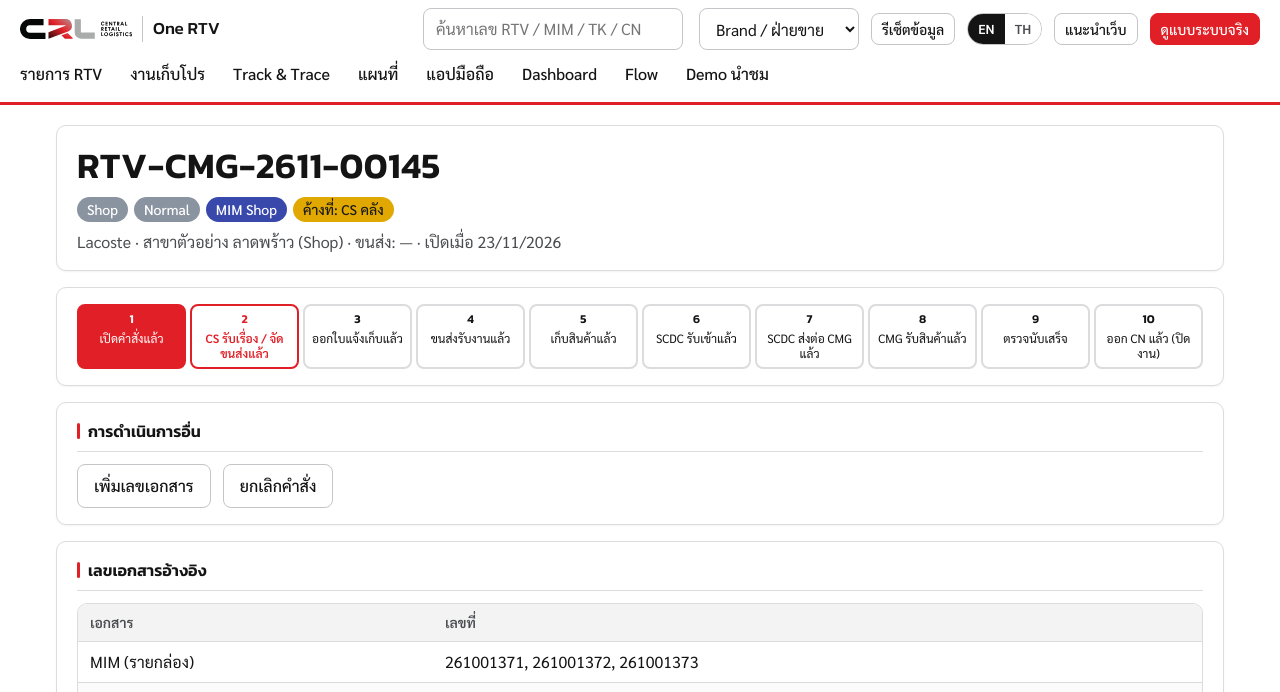
Scenario: brand can add a document number
The width and height of the screenshot is (1280, 692).
Click the button "เพิ่มเลขเอกสาร". click: (144, 486)
box: [77,464,211,508]
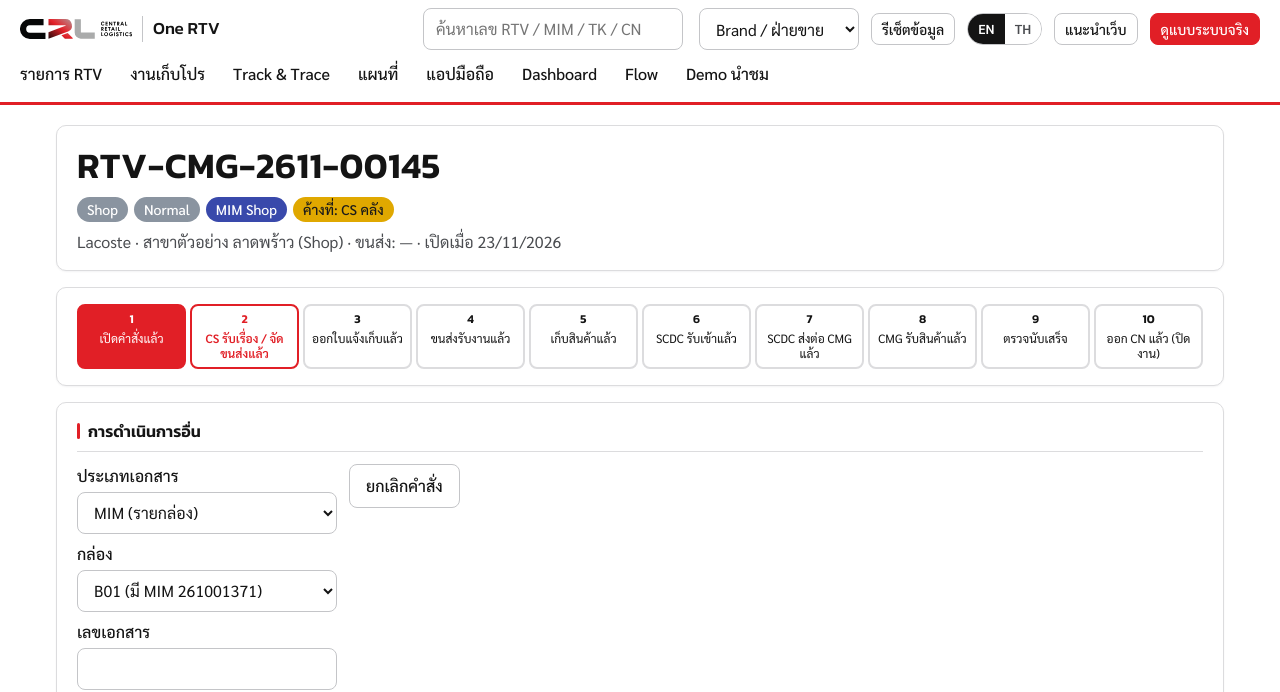
Select "SD10 / RTV Form" in the dropdown labelled "ประเภทเอกสาร". click: (207, 513)
box: [77,492,337,534]
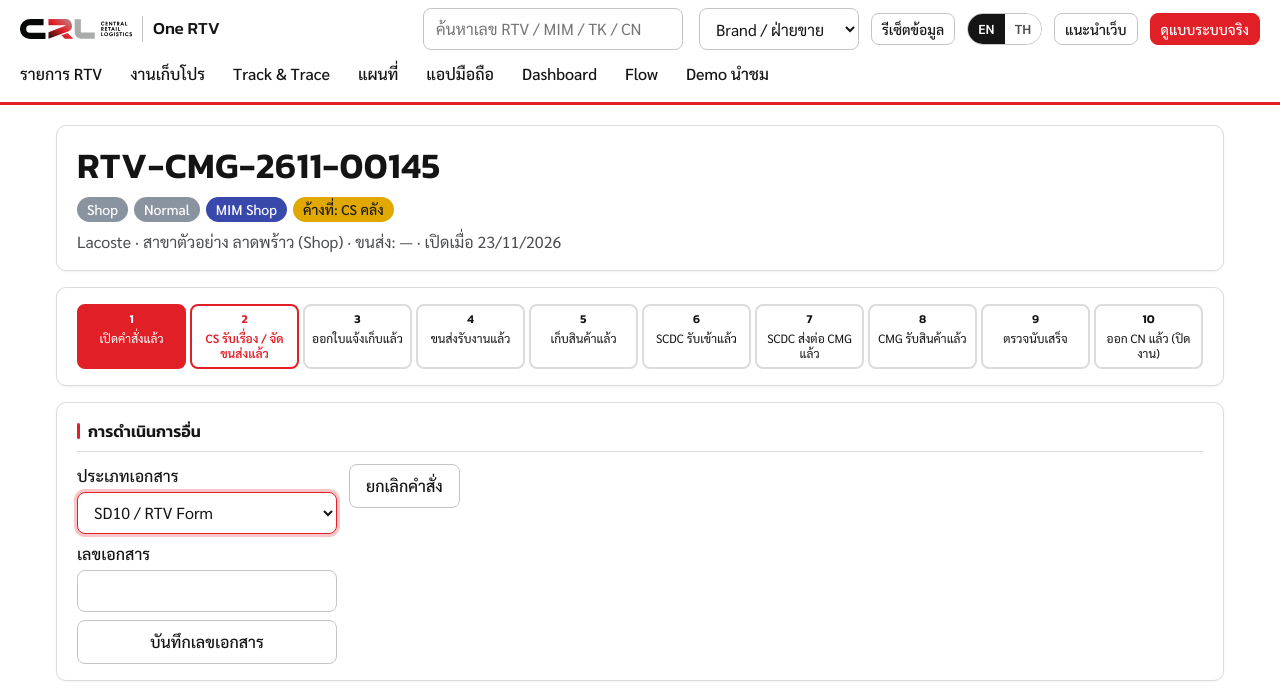
Type "SD10-TEST-1" into the field labelled "เลขเอกสาร". click: (207, 591)
box: [77,570,337,612]
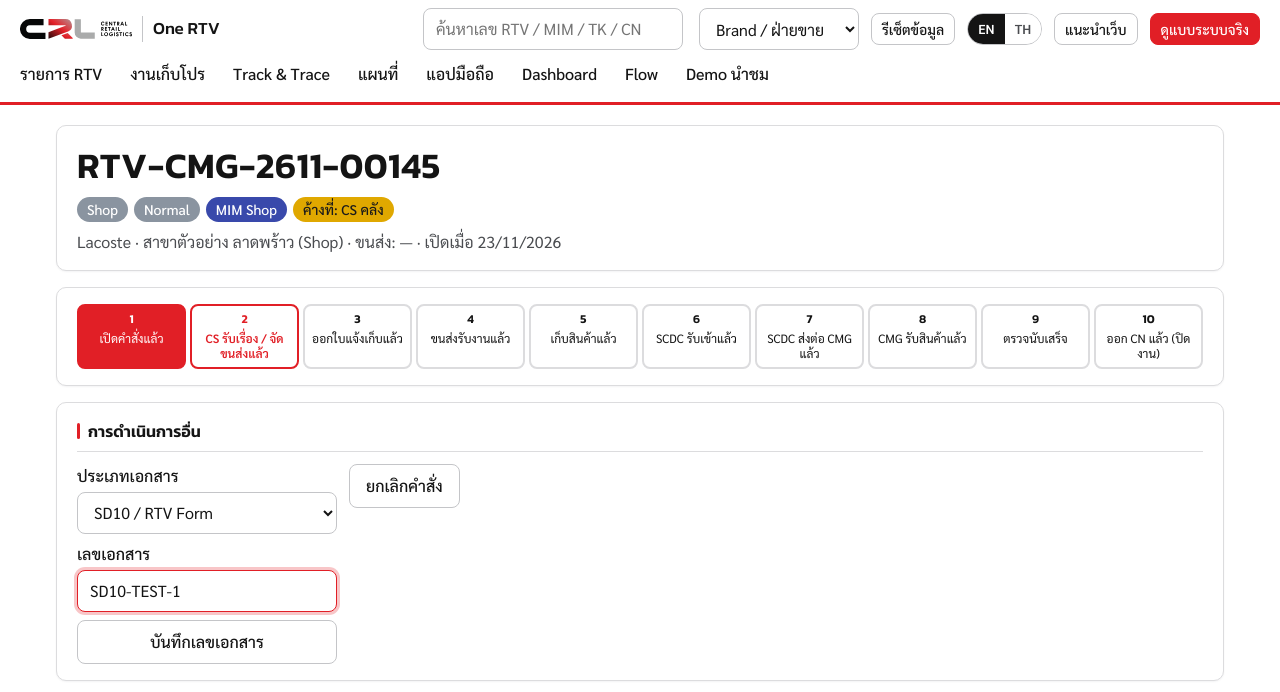
Click the button "บันทึกเลขเอกสาร". click: (207, 642)
box: [77,620,337,664]
(page scrolled)
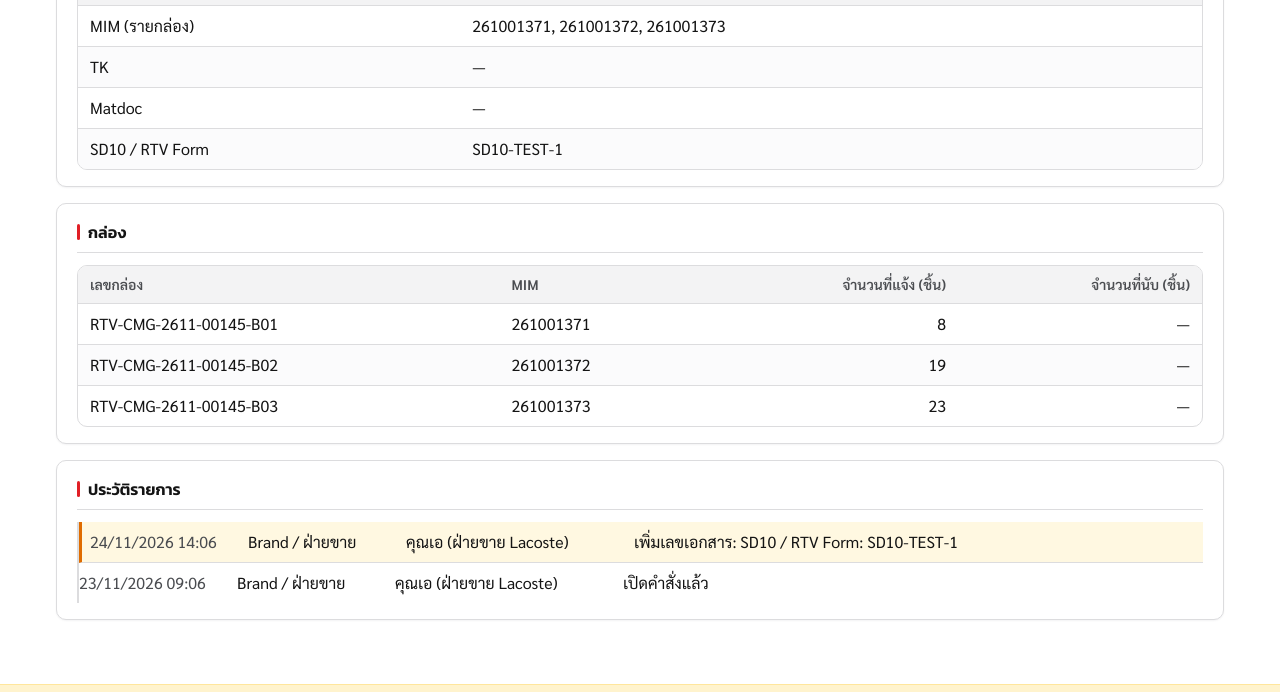
Expected: the text "เพิ่มเลขเอกสาร: SD10 / RTV Form: SD10-TEST-1" is shown, [634,531,958,552]
